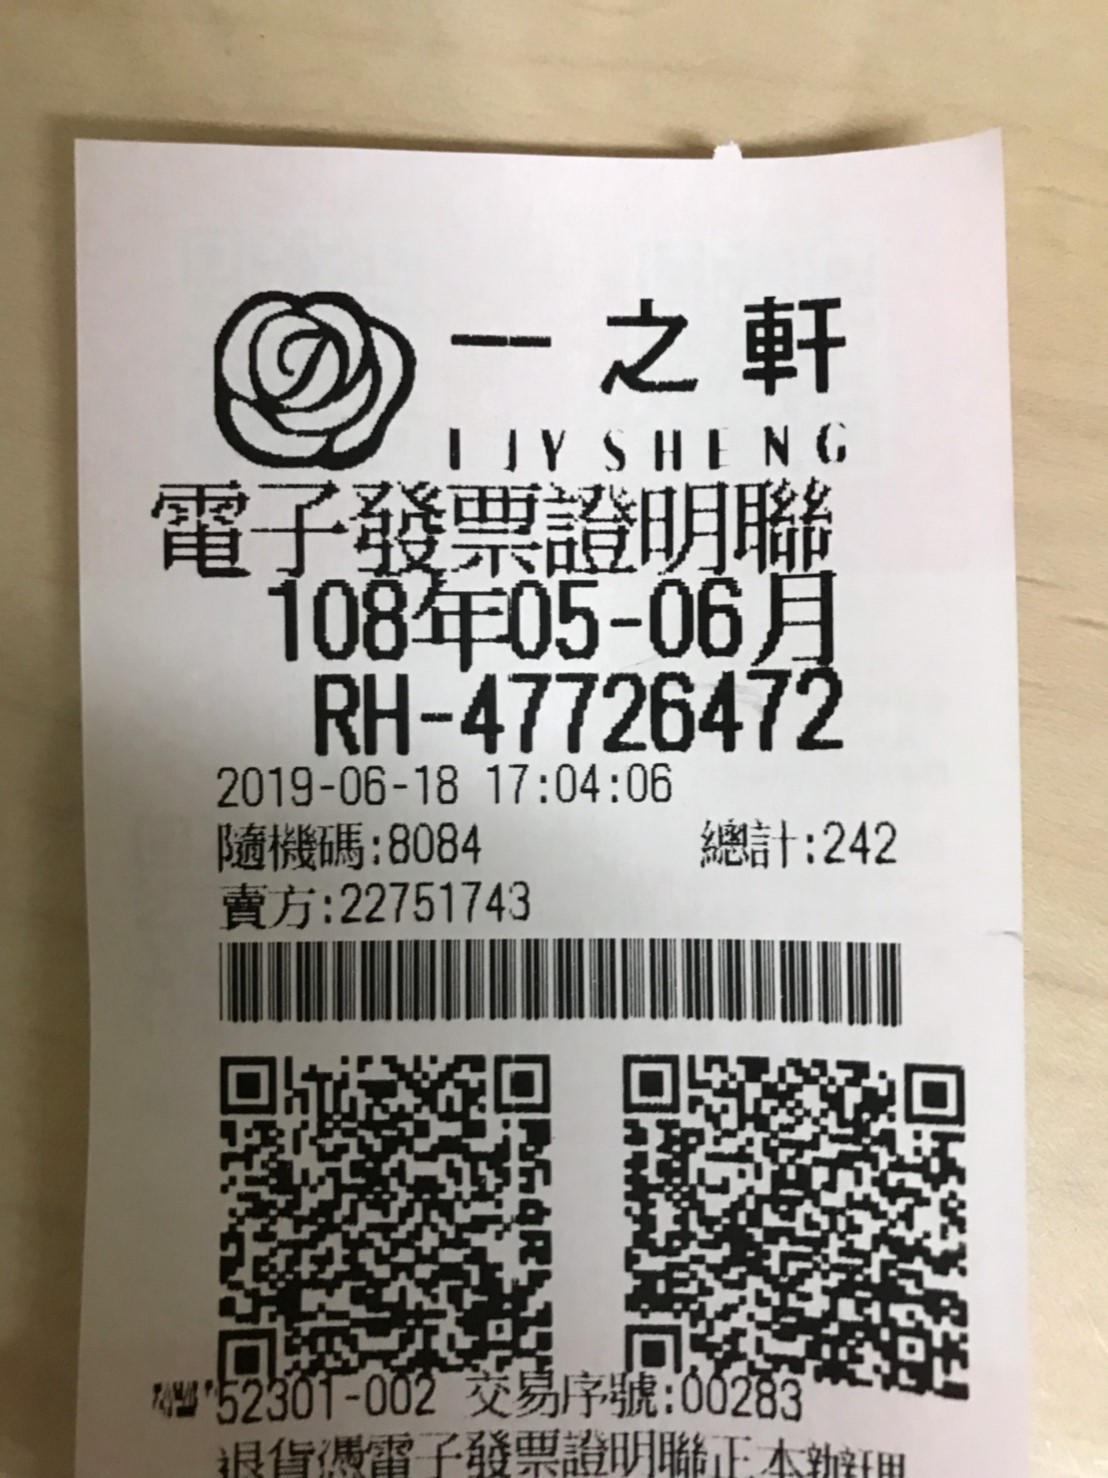Date_New: (265, 574, 841, 667)
Number_New: (462, 661, 846, 754)
